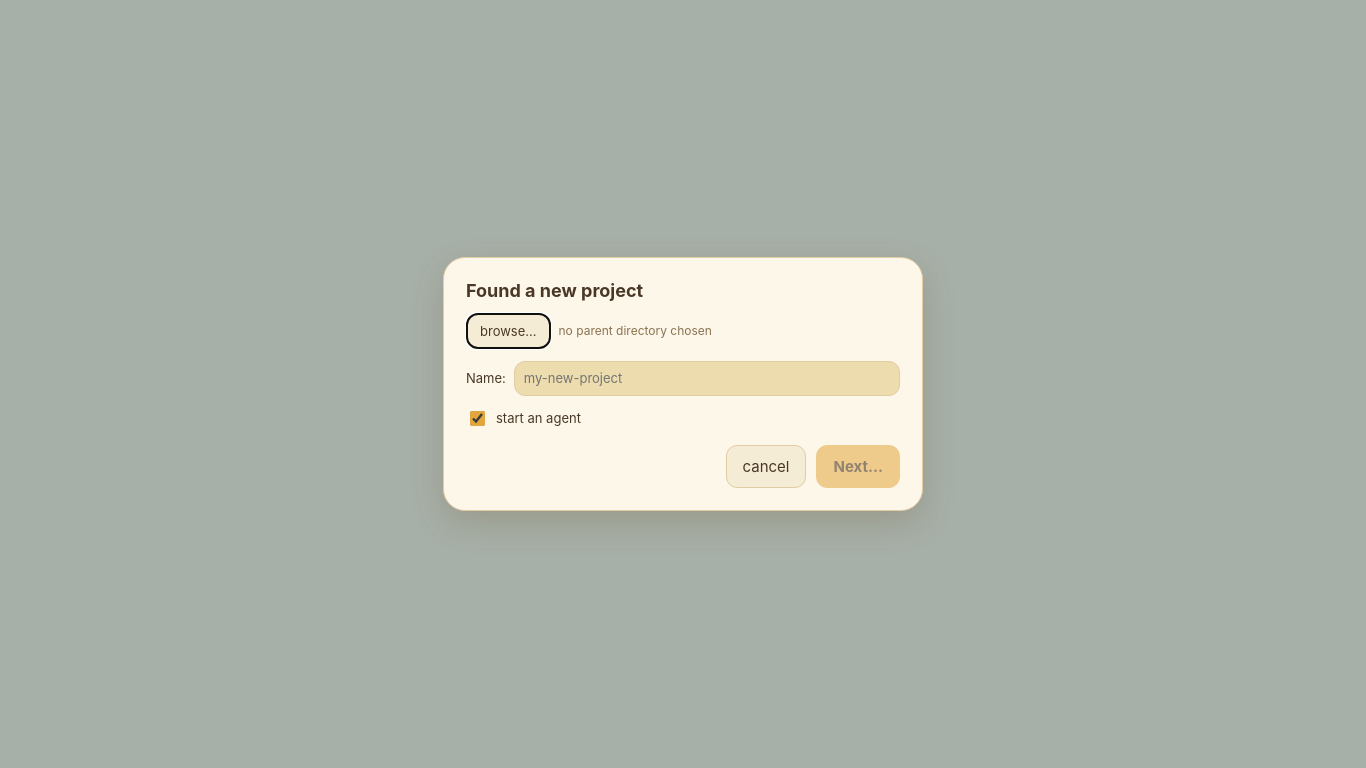
Test: NewProjectPanel › canonicalizes the browsed directory before showing it, same as the founding flow
The width and height of the screenshot is (1366, 768).
Step 1. Click the button "browse…" → (508, 331), box [466,313,550,349]
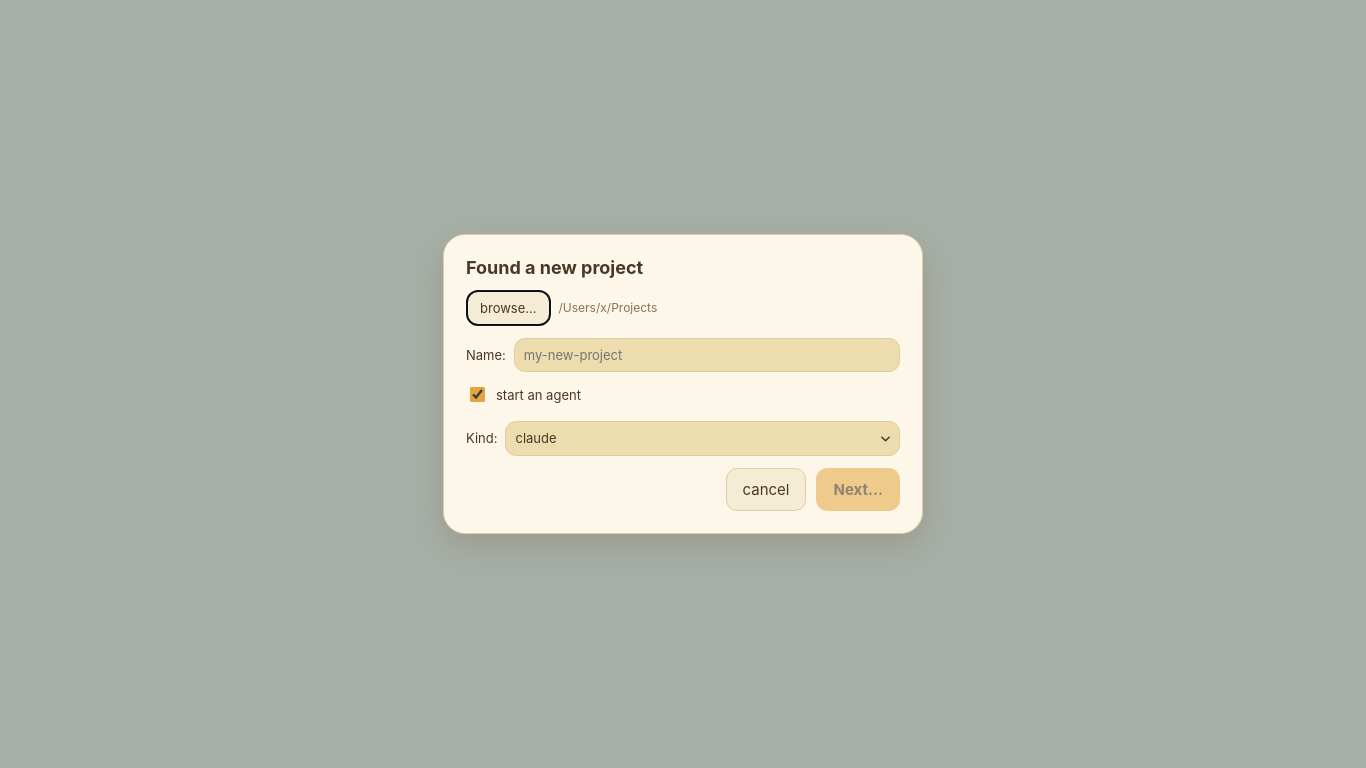
Expected: the text "/Users/x/Projects" is shown, [558,299,657,318]
